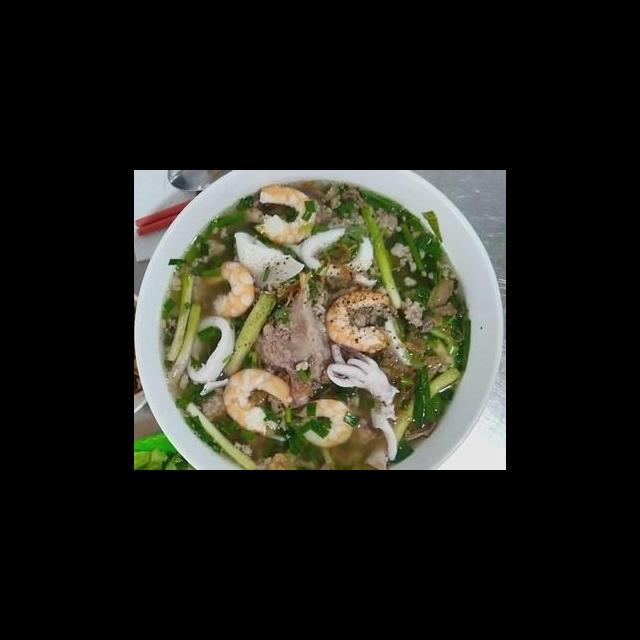muc: (322, 341, 405, 462), (232, 228, 307, 291), (295, 223, 376, 280), (179, 312, 238, 386)
thit bam: (317, 181, 405, 239), (389, 227, 459, 289)
tom: (319, 283, 401, 358), (217, 364, 295, 441), (251, 181, 323, 248), (196, 255, 259, 322), (291, 396, 357, 449)
